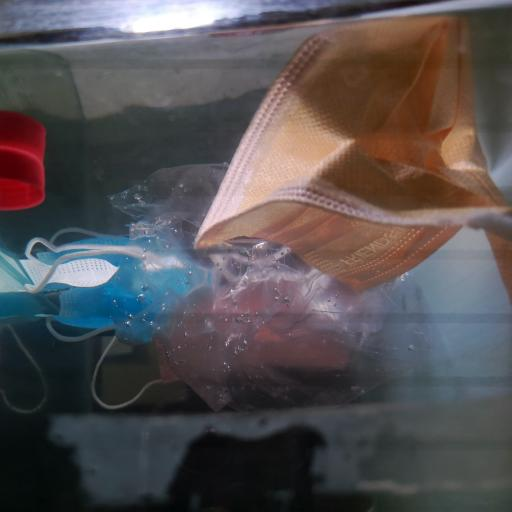bottle_cap: (2, 154, 42, 214)
mask: (189, 33, 512, 292), (22, 231, 205, 347)
plastic_bag: (101, 157, 464, 409)
